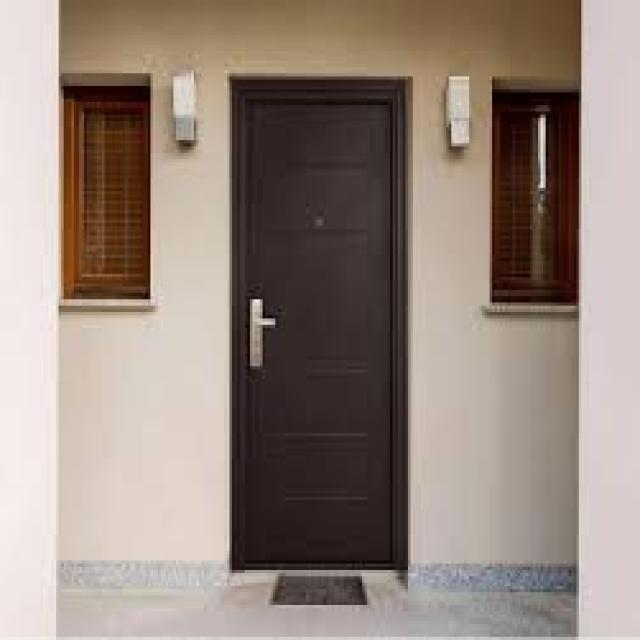door: (229, 75, 408, 571)
